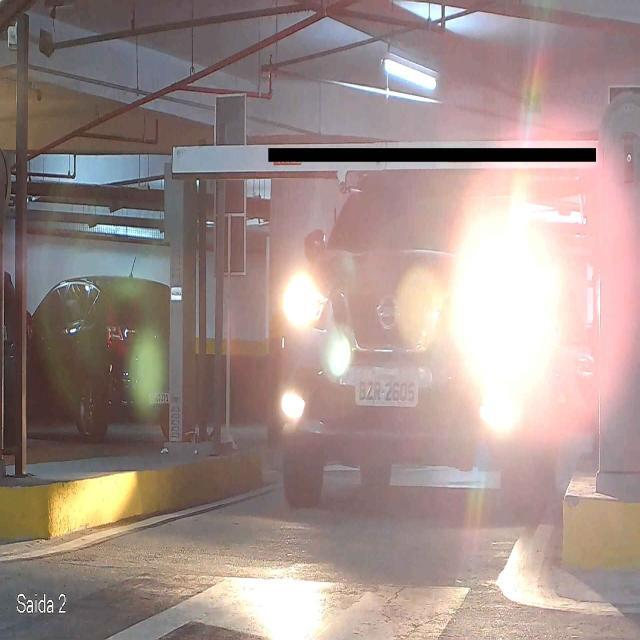old_plate: (352, 366, 420, 409)
